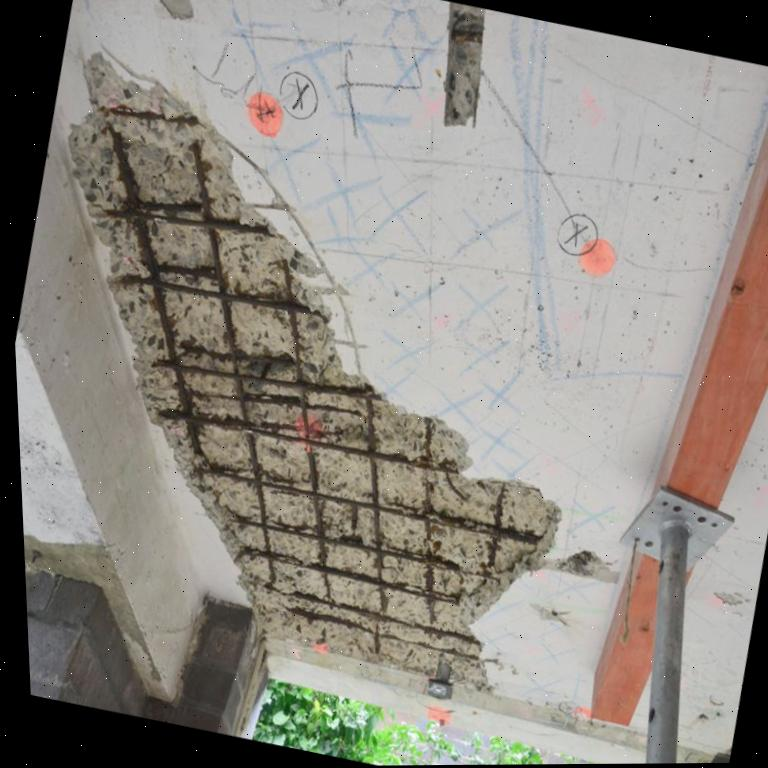spalling: (70, 55, 558, 687), (443, 2, 485, 126), (159, 0, 193, 19)
